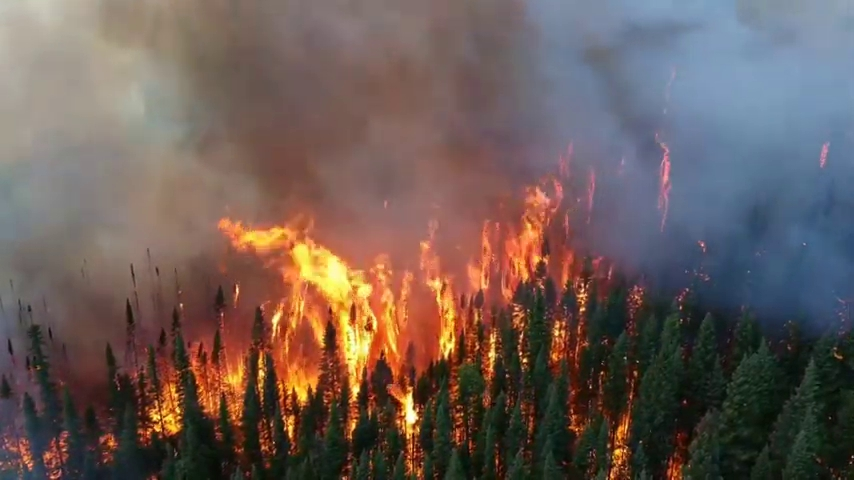forest_fire: (218, 179, 600, 399), (193, 314, 245, 419), (607, 351, 638, 479), (151, 374, 182, 434), (387, 380, 419, 435)
